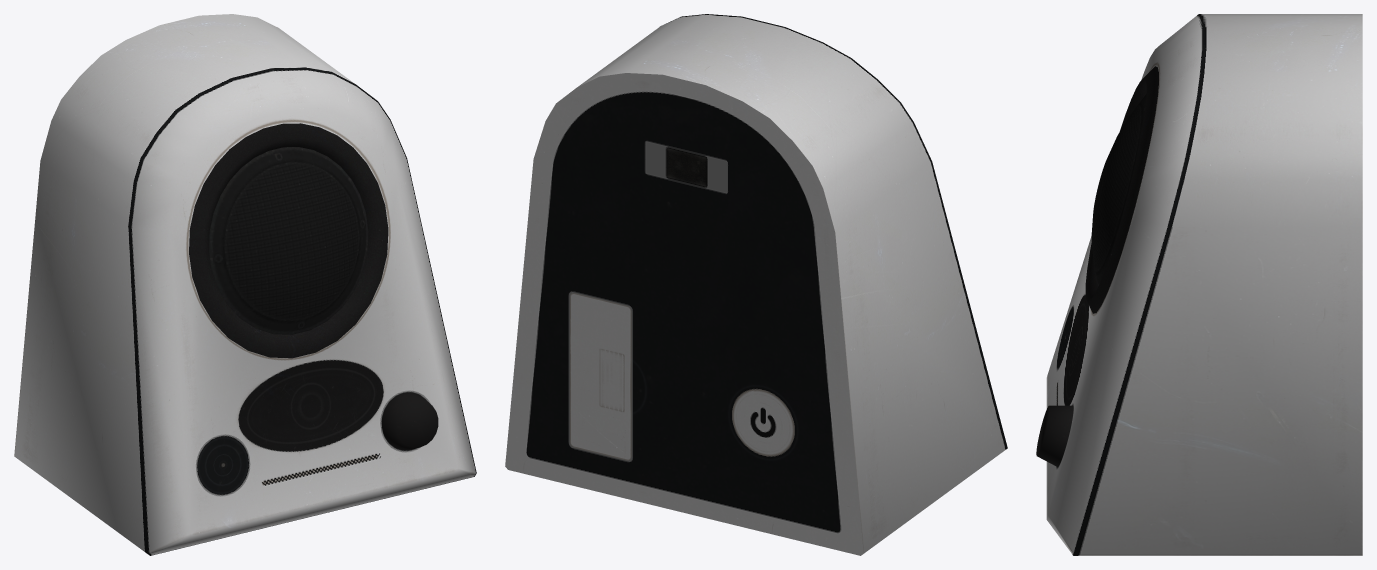
Rendered from Speaker.fbx.
The picture shows the model from 3 angles, left to right: view 1: azimuth 30°, elevation 25°; view 2: azimuth 150°, elevation 25°; view 3: azimuth 270°, elevation 25°; orthographic projection. The views are drawn at different scales.
Parts seen in each view (by area): view 1: SpeakerBody, VolumeSlider; view 2: SpeakerBody; view 3: SpeakerBody, VolumeSlider.
Boxes of the visible parts, bbox=[...] form: SpeakerBody: bbox=[14, 14, 476, 555]; VolumeSlider: bbox=[382, 392, 438, 450]; SpeakerBody: bbox=[505, 14, 1007, 555]; SpeakerBody: bbox=[1046, 14, 1362, 555]; VolumeSlider: bbox=[1036, 405, 1073, 466].
Bounding box in the file's own units: 200 × 230 × 158.
Materials: 1 (1 with a texture image).
